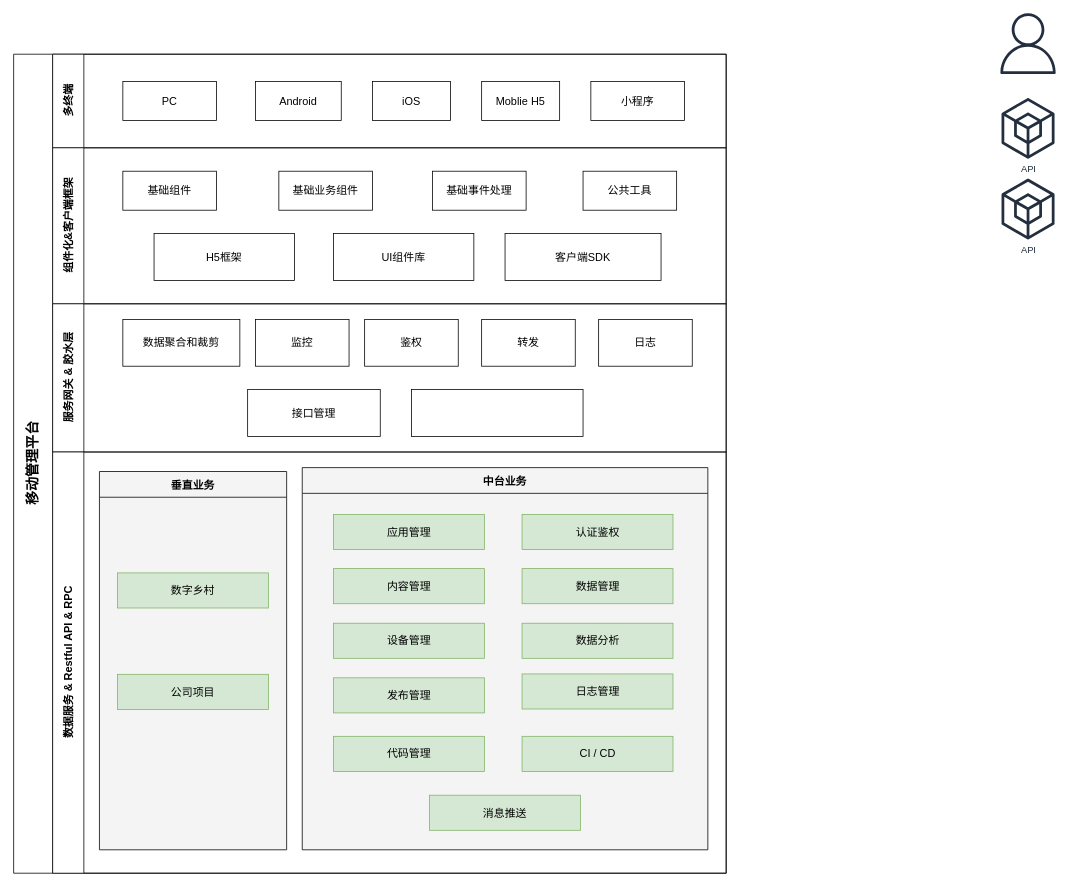
This 1072x887 diagram has some shape labels left out. Each missing label, with the centre of its shape:
"User" goes at point 1027,43.
"负载均衡" goes at point 497,412.
